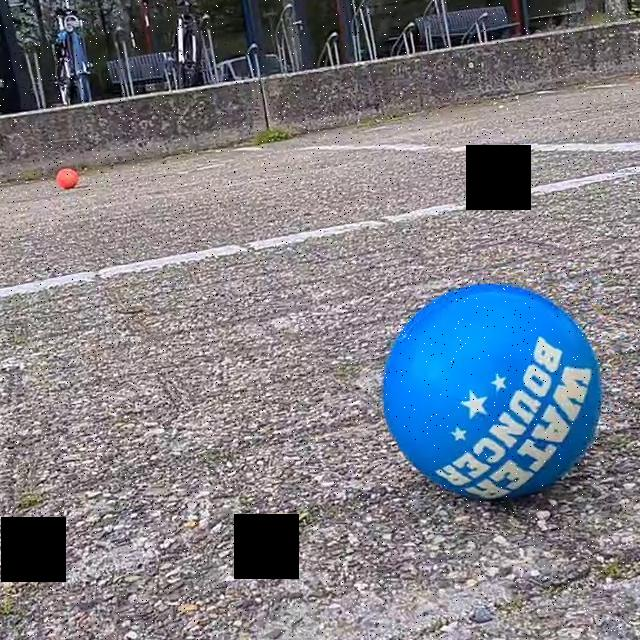ball: (52, 164, 82, 193)
